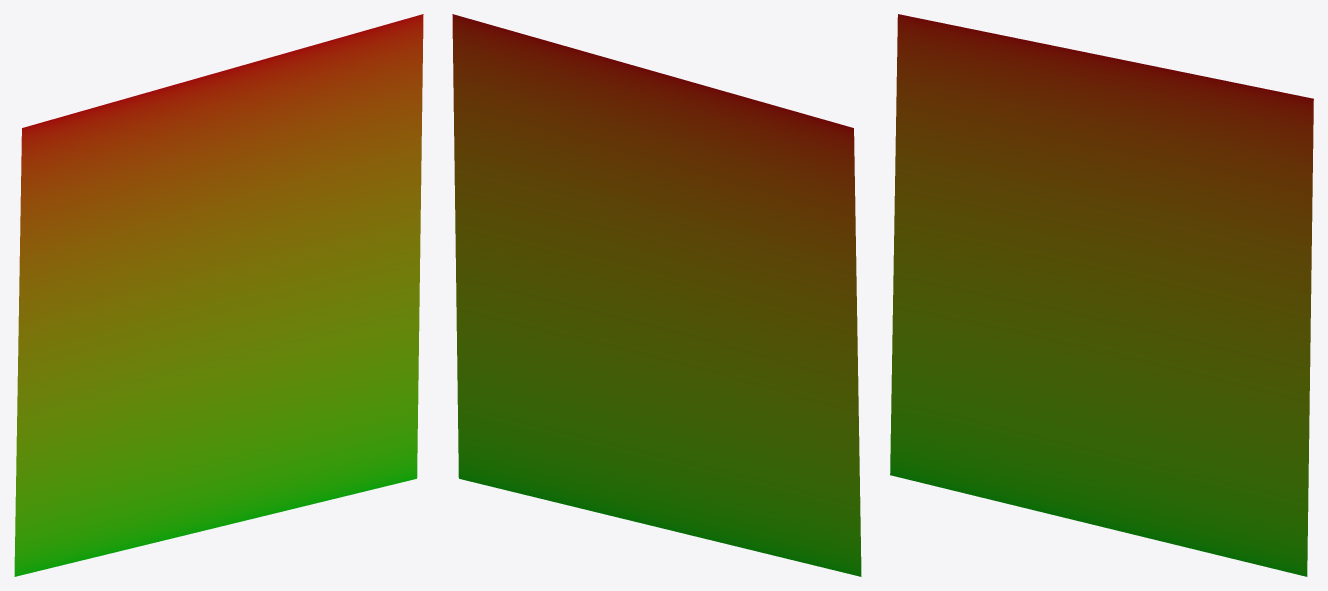
The model's file is Cast - Iron Plant_LOD3_Var4_shdmr.fbx.
3 renders of one model, left to right at view 1: azimuth 30°, elevation 25°; view 2: azimuth 150°, elevation 25°; view 3: azimuth 330°, elevation 25°, orthographic. The views are drawn at different scales.
Parts seen in each view (by area): view 1: _4857_Var4_LOD3; view 2: _4857_Var4_LOD3; view 3: _4857_Var4_LOD3.
Part boxes in pixels (bbox=[...]): _4857_Var4_LOD3: bbox=[14, 14, 423, 576]; _4857_Var4_LOD3: bbox=[452, 14, 861, 576]; _4857_Var4_LOD3: bbox=[890, 14, 1313, 576].
Size of the model in its own units: 57.97 by 62.73 by 1.35e-05.
